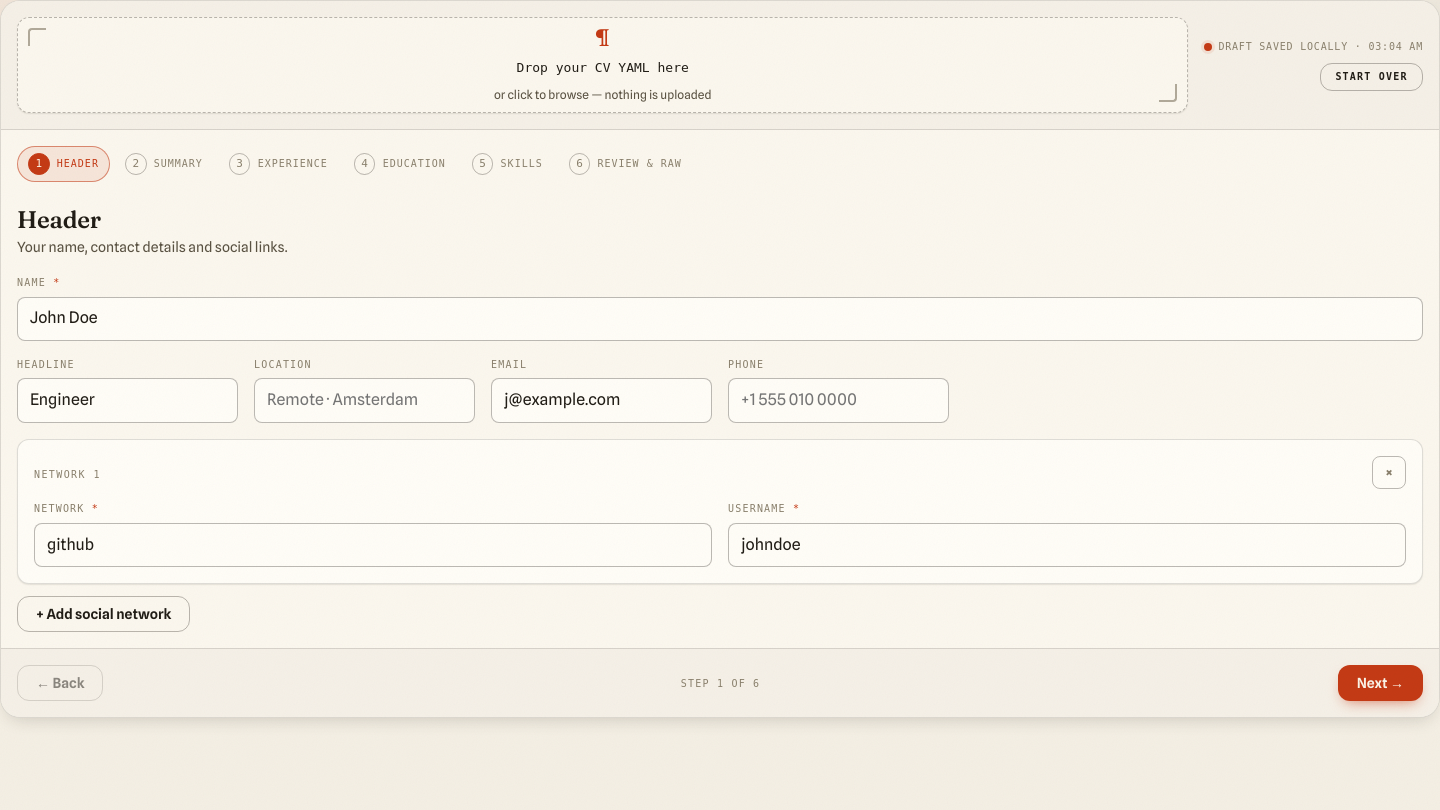
Test: Wizard › shows a required hint for an empty required field
The image size is (1440, 810).
Clear the field labelled "Name *" at (720, 319), box [17,297,1423,341]
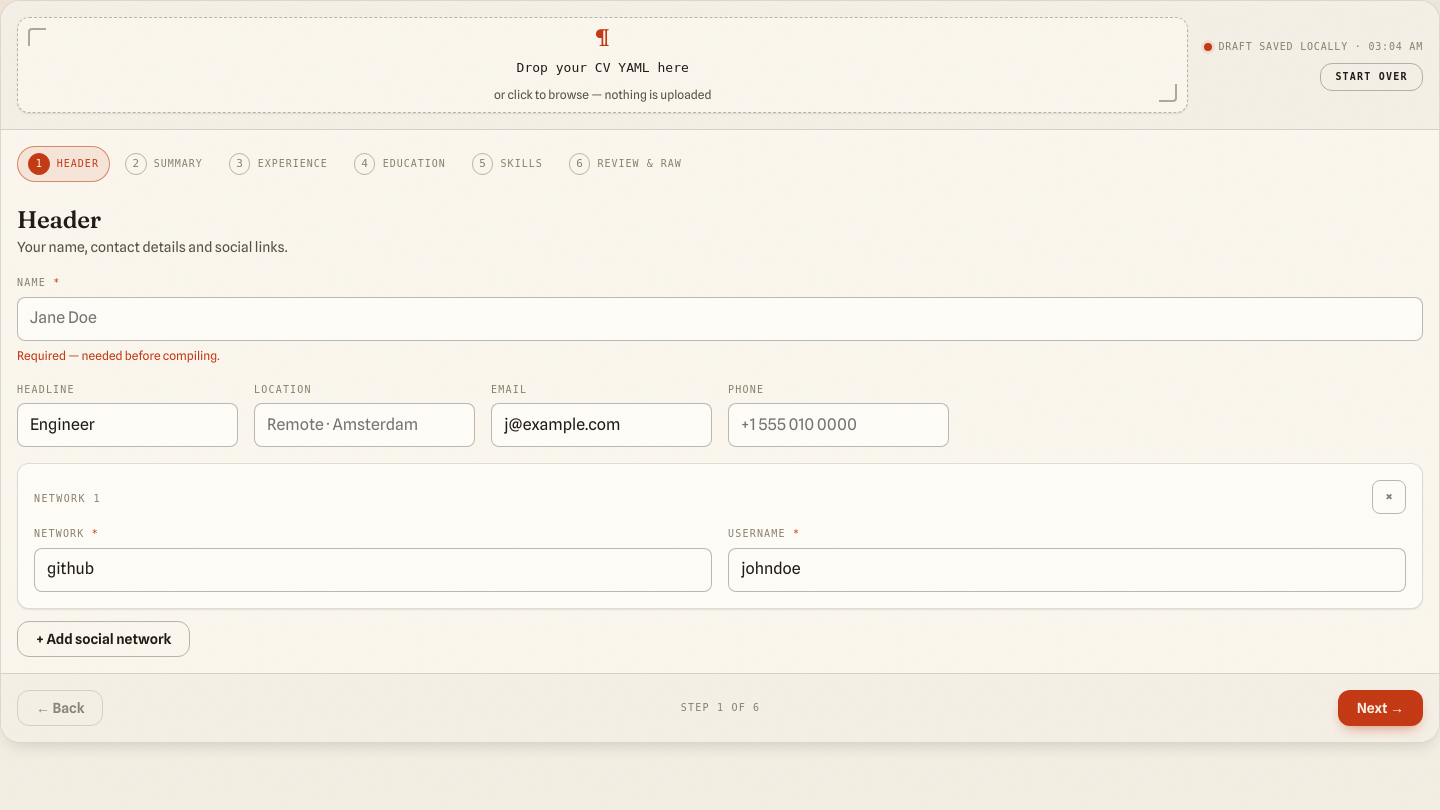
Check: the text "Required — needed before compiling." is shown, box [17,348,220,363]
